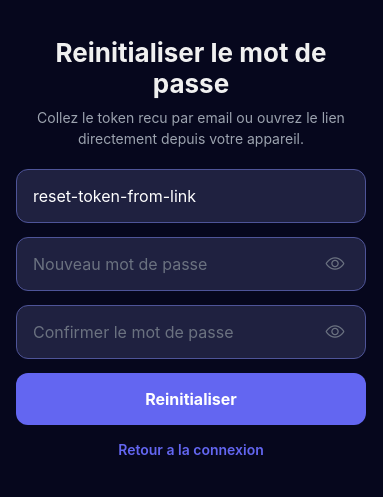
Test: ResetPasswordScreen › shows error when new password is empty
Click the element with test id "reset-submit-button" at x=191, y=398, box [16,372,366,424]
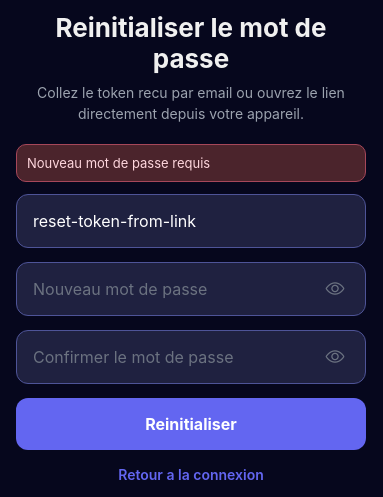
expect the text "Nouveau mot de passe requis" is shown: met, box [27,154,210,170]
